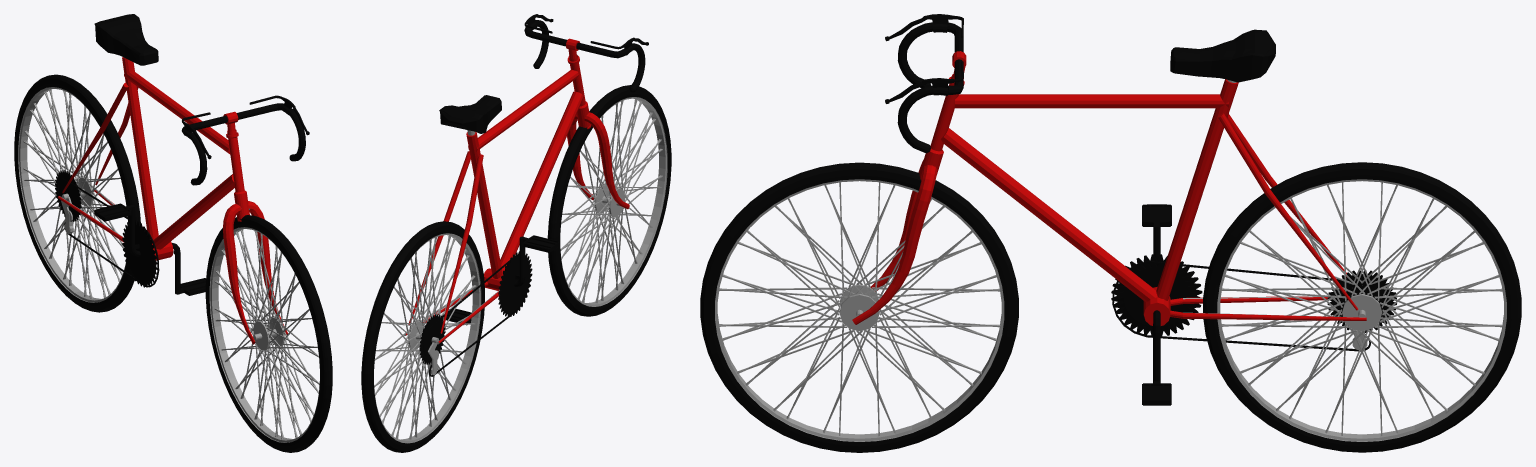
The model's file is bicycle.obj.
3 views of the same model, side by side, from view 1: azimuth 30°, elevation 25°; view 2: azimuth 150°, elevation 25°; view 3: azimuth 270°, elevation 25° (orthographic). The views are drawn at different scales.
Parts seen in each view (by area): view 1: fspokes, frame, rspokes, ftire, rtire, front, rrim2, frim, handles, seat, gears, pedals (+2 smaller); view 2: frame, fspokes, rspokes, rtire, ftire, frim, rrim2, front, gears, handles, seat, pedals (+2 smaller); view 3: frame, rtire, ftire, rspokes, fspokes, rrim2, frim, front, seat, gears, handles, pedals (+4 smaller).
Part boxes in pixels (left/top/right/bottom): fspokes: left=214, top=229, right=319, bottom=439; frame: left=58, top=57, right=235, bottom=260; rspokes: left=23, top=89, right=127, bottom=298; ftire: left=205, top=215, right=332, bottom=452; rtire: left=14, top=74, right=140, bottom=312; front: left=223, top=130, right=288, bottom=344; rrim2: left=18, top=87, right=125, bottom=302; frim: left=209, top=227, right=319, bottom=442; handles: left=181, top=95, right=309, bottom=185; seat: left=94, top=14, right=158, bottom=65; gears: left=56, top=174, right=157, bottom=287; pedals: left=94, top=203, right=206, bottom=295; frame: left=404, top=54, right=583, bottom=344; fspokes: left=560, top=99, right=662, bottom=303; rspokes: left=374, top=235, right=476, bottom=439; rtire: left=361, top=221, right=484, bottom=452; ftire: left=547, top=85, right=671, bottom=316; frim: left=560, top=97, right=667, bottom=306; rrim2: left=374, top=233, right=481, bottom=443; front: left=567, top=56, right=629, bottom=209; gears: left=422, top=251, right=532, bottom=360; handles: left=524, top=14, right=648, bottom=92; seat: left=439, top=95, right=501, bottom=133; pedals: left=442, top=235, right=559, bottom=325; frame: left=940, top=74, right=1366, bottom=325; rtire: left=1203, top=162, right=1521, bottom=452; ftire: left=700, top=162, right=1018, bottom=452; rspokes: left=1221, top=182, right=1502, bottom=435; fspokes: left=719, top=182, right=1000, bottom=436; rrim2: left=1217, top=179, right=1506, bottom=441; frim: left=715, top=179, right=1004, bottom=441; front: left=852, top=76, right=964, bottom=324; seat: left=1170, top=29, right=1275, bottom=82; gears: left=1111, top=254, right=1391, bottom=335; handles: left=885, top=14, right=963, bottom=153; pedals: left=1142, top=204, right=1171, bottom=405.
Size of the model in its own units: 1.19 by 3.18 by 5.75.
